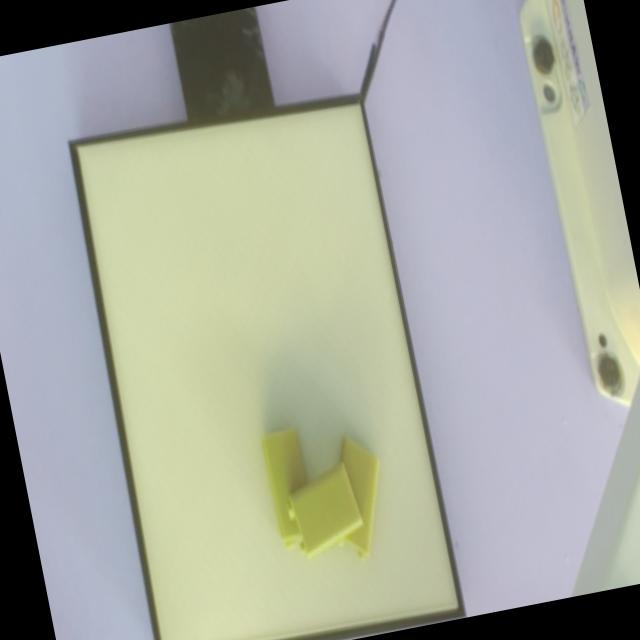bateria: (286, 460, 364, 559)
mesa: (68, 93, 466, 640)
